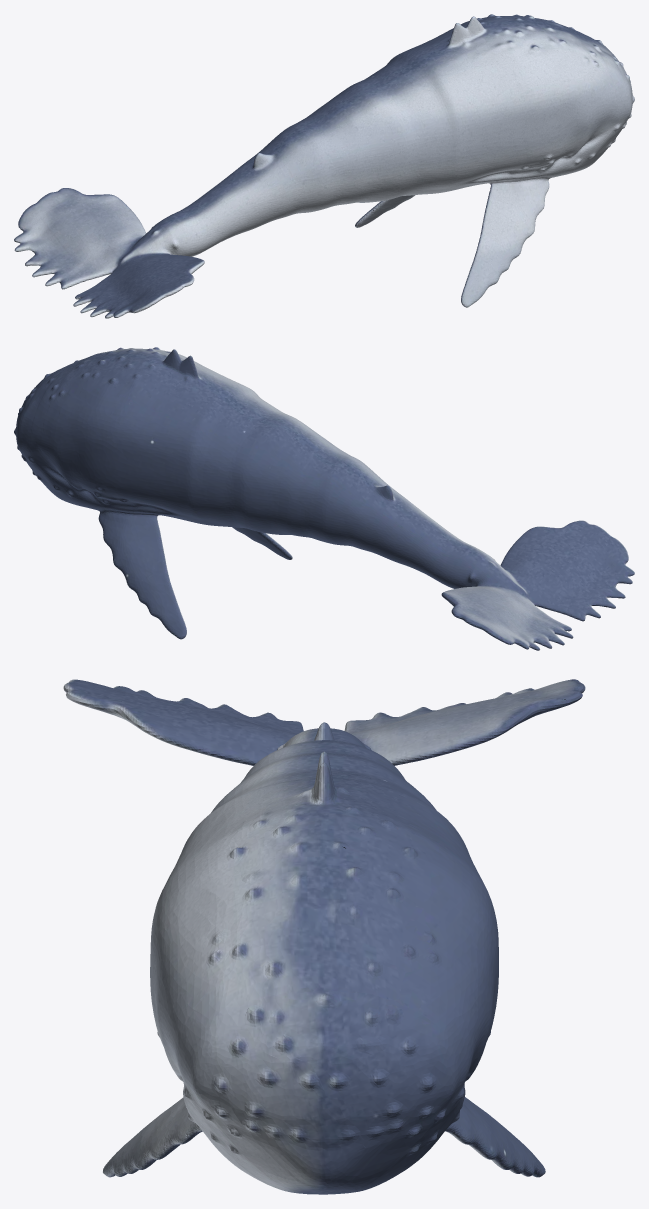
Rendered from creature-whale.glb.
3 views of the same model, one above another, from view 1: azimuth 30°, elevation 25°; view 2: azimuth 150°, elevation 25°; view 3: azimuth 270°, elevation 25° (orthographic). The views are drawn at different scales.
Parts seen in each view (by area): view 1: HeroDragonMesh; view 2: HeroDragonMesh; view 3: HeroDragonMesh.
Part boxes in pixels (x1,y1,x2,y2): HeroDragonMesh: [14, 14, 634, 318]; HeroDragonMesh: [14, 347, 634, 650]; HeroDragonMesh: [63, 679, 585, 1194].
Size of the model in its own units: 2 by 0.7989 by 0.8028.
Materials: 1 (1 with a texture image).
